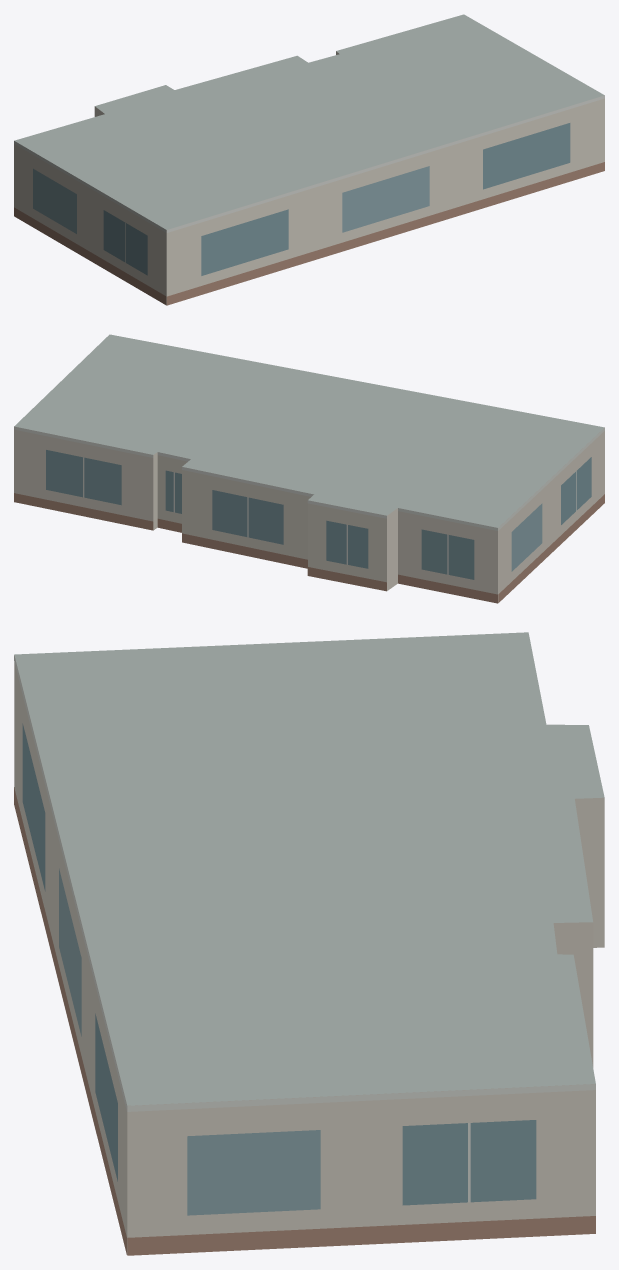
Rendered from survey-upis-33008881.glb.
The picture shows the model from 3 angles, top to bottom: view 1: azimuth 30°, elevation 25°; view 2: azimuth 150°, elevation 25°; view 3: azimuth 270°, elevation 25°; orthographic projection. The views are drawn at different scales.
Visible parts, largest first — view 1: survey-upis-33008881.tmp; view 2: survey-upis-33008881.tmp; view 3: survey-upis-33008881.tmp.
Boxes of the visible parts, bbox=[...] form: survey-upis-33008881.tmp: bbox=[14, 14, 604, 305]; survey-upis-33008881.tmp: bbox=[14, 334, 604, 603]; survey-upis-33008881.tmp: bbox=[14, 632, 604, 1255].
Bounding box in the file's own units: 20.69 × 3.05 × 10.9.
